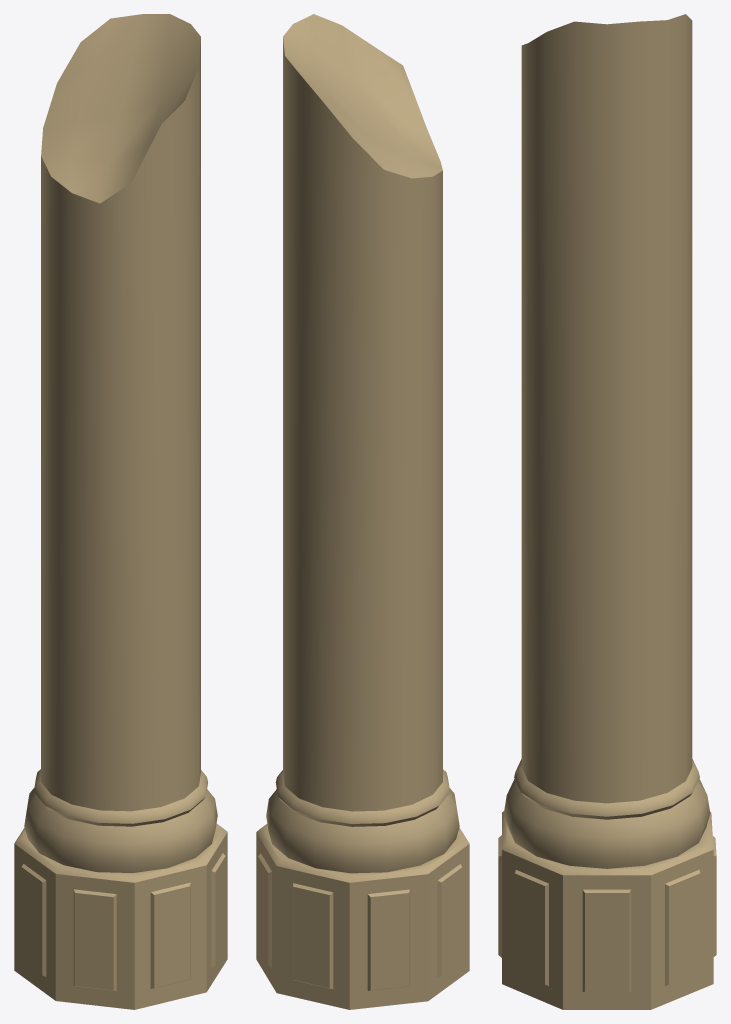
File: pillar_01.fbx
The picture shows the model from 3 angles, left to right: view 1: azimuth 30°, elevation 25°; view 2: azimuth 150°, elevation 25°; view 3: azimuth 270°, elevation 25°; orthographic projection. The views are drawn at different scales.
Visible parts, largest first — view 1: pillar_01; view 2: pillar_01; view 3: pillar_01.
Part boxes in pixels (x1,y1,x2,y2): pillar_01: (14,14,227,1009); pillar_01: (256,14,469,1009); pillar_01: (498,14,716,1009).
Bounding box in the file's own units: 194 × 962 × 195.
